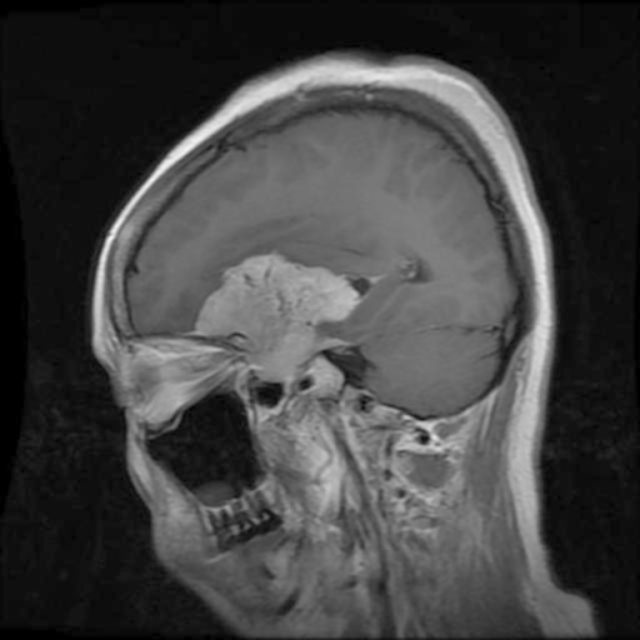meningioma tumor: (198, 262, 344, 358)
